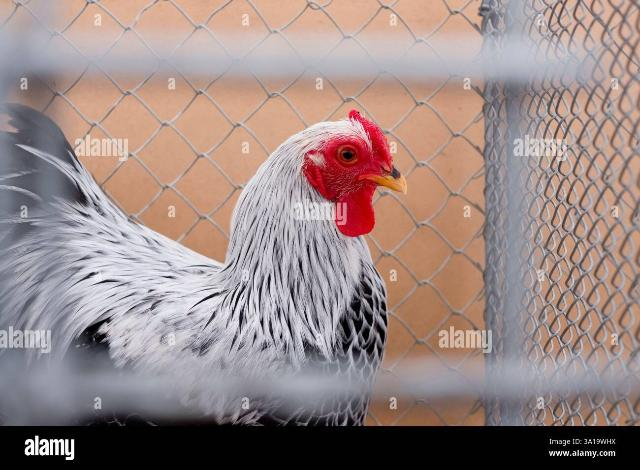Chicken: (0, 101, 410, 425)
